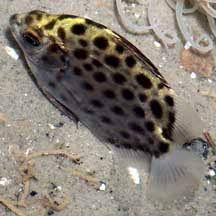Scat Fish: (9, 10, 207, 207)
